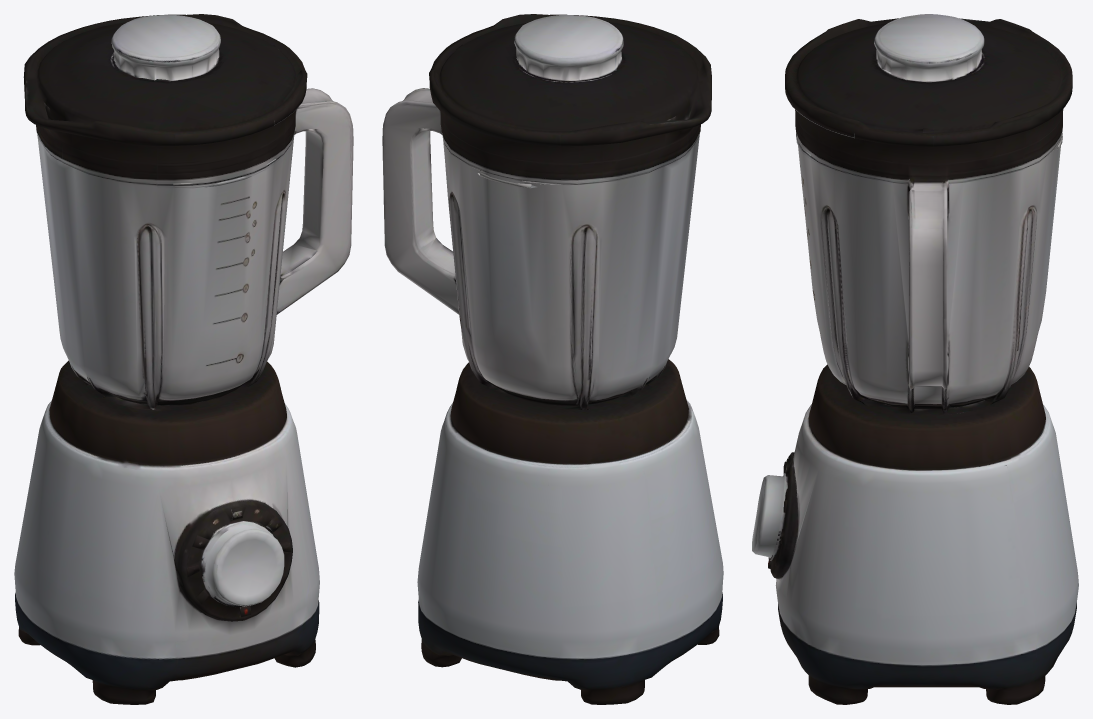
File: a_blender_049af53d_v2.glb
3 views of the same model, side by side, from view 1: azimuth 30°, elevation 25°; view 2: azimuth 150°, elevation 25°; view 3: azimuth 270°, elevation 25° (orthographic).
Visible parts, largest first — view 1: material; view 2: material; view 3: material.
Boxes of the visible parts, x1,y1,x2,y2 form: material: (14, 14, 353, 704); material: (382, 14, 723, 704); material: (752, 14, 1078, 704).
Bounding box in the file's own units: 1.03 × 1.9 × 0.9119.
Materials: 1 (1 with a texture image).
